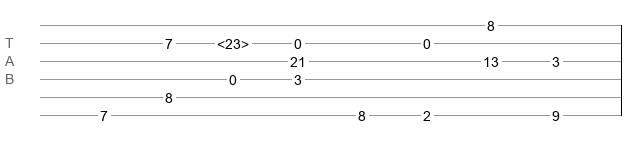0: (229, 72, 237, 82), (294, 36, 302, 46), (423, 36, 431, 46)
13: (483, 54, 499, 64)
2: (423, 108, 431, 118)
21: (290, 54, 306, 64)
3: (294, 72, 302, 82), (552, 54, 560, 64)
7: (100, 108, 108, 118), (165, 36, 173, 46)
8: (165, 90, 173, 100), (358, 108, 366, 118), (487, 18, 495, 28)
9: (552, 108, 560, 118)
harmonic: (217, 36, 249, 46)
